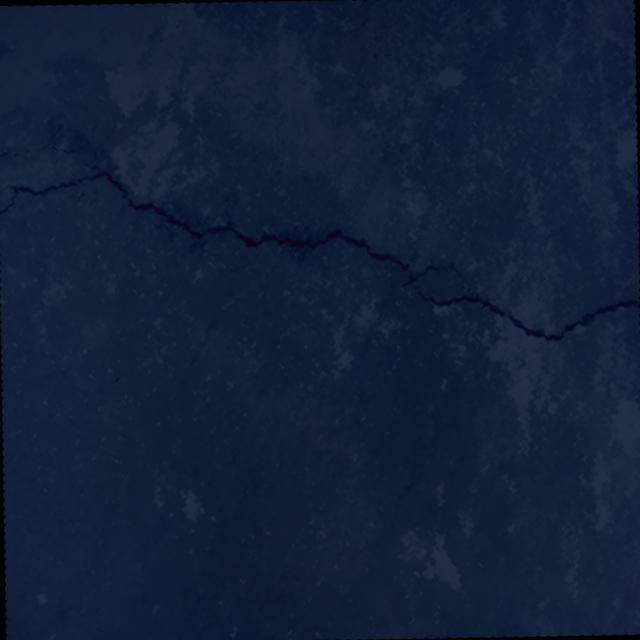crack: (0, 153, 640, 352), (53, 146, 81, 156), (1, 153, 20, 158)
